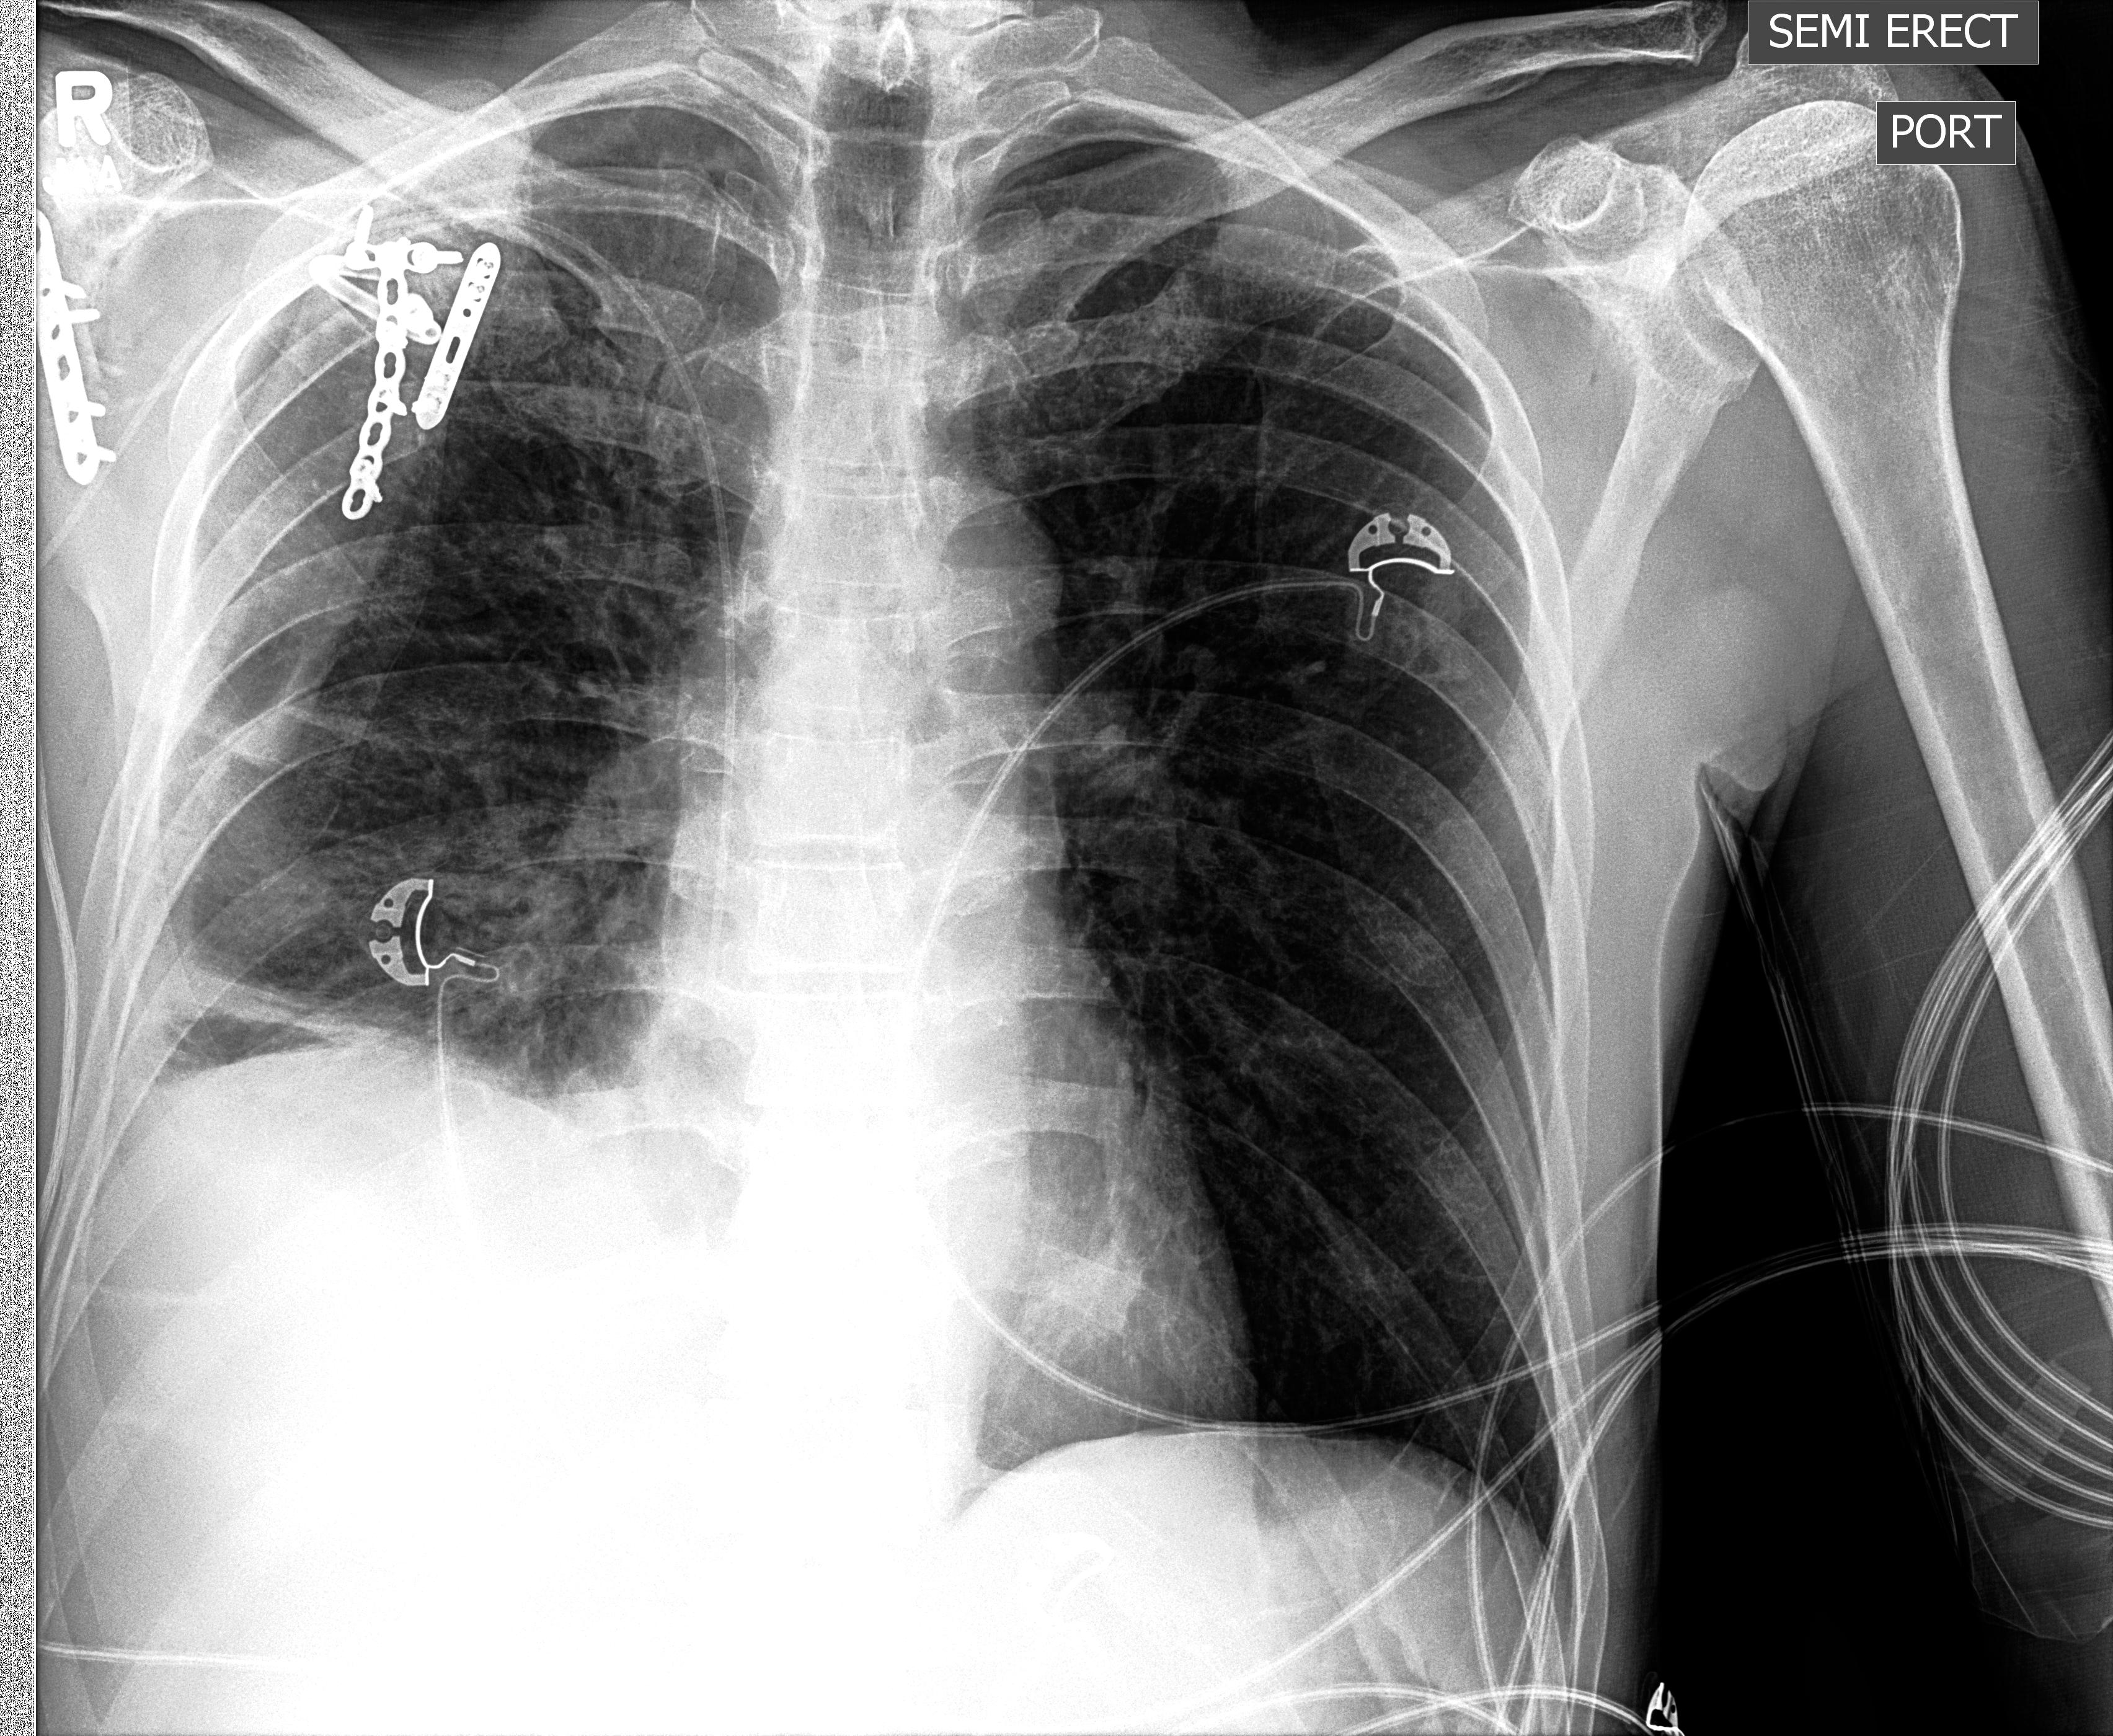Pleural Effusion: (63, 1020, 509, 1496)
